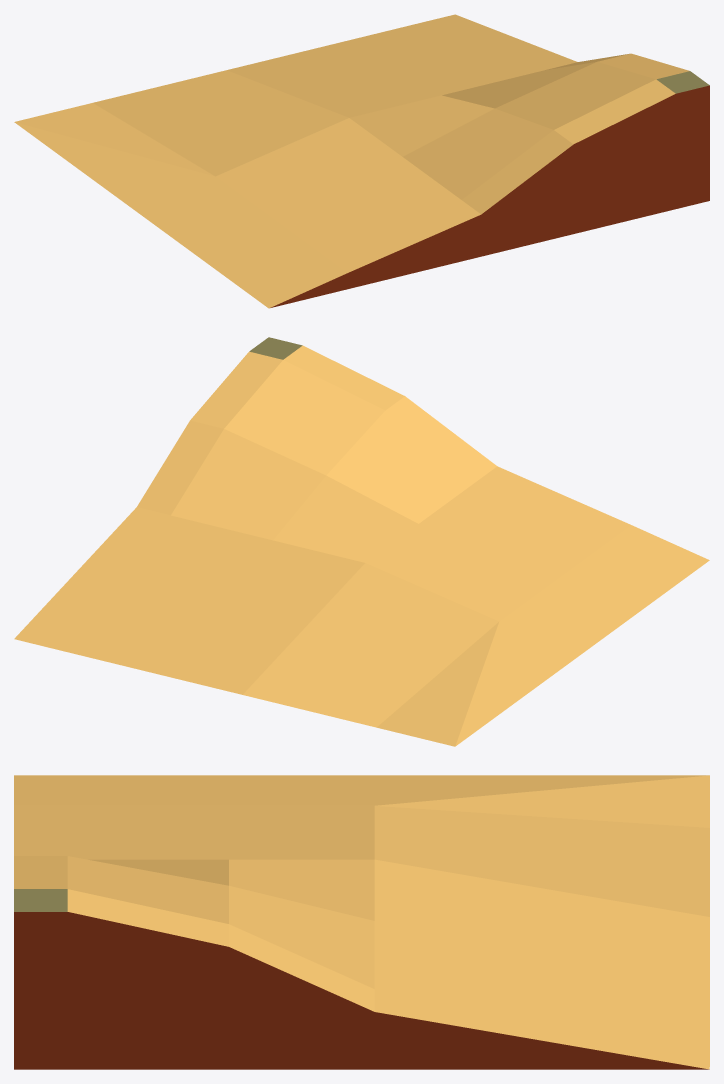
The model's file is beach_cornerExt.fbx.
3 views of the same model, one above another, from view 1: azimuth 30°, elevation 25°; view 2: azimuth 150°, elevation 25°; view 3: azimuth 270°, elevation 25° (orthographic). The views are drawn at different scales.
Parts seen in each view (by area): view 1: beach_cornerExt; view 2: beach_cornerExt; view 3: beach_cornerExt.
Part boxes in pixels (x1,y1,x2,y2): beach_cornerExt: (14, 14, 709, 308); beach_cornerExt: (14, 337, 709, 746); beach_cornerExt: (14, 775, 709, 1069).
Bounding box in the file's own units: 200 × 50 × 200.
Materials: 1 (1 with a texture image).
